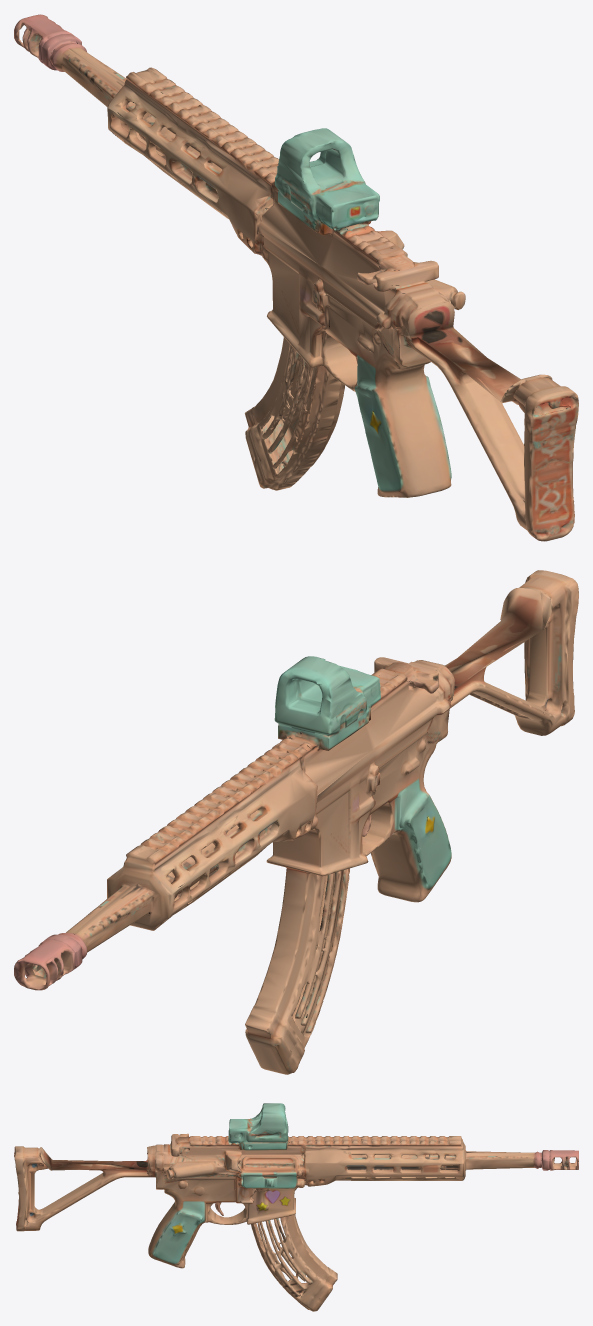
3 views of the same model, one above another, from view 1: azimuth 30°, elevation 25°; view 2: azimuth 150°, elevation 25°; view 3: azimuth 270°, elevation 25° (orthographic). The views are drawn at different scales.
Visible parts, largest first — view 1: repaired; view 2: repaired; view 3: repaired.
Part boxes in pixels (x1,y1,x2,y2): repaired: (14, 14, 578, 541); repaired: (14, 570, 578, 1074); repaired: (14, 1103, 578, 1311).
Bounding box in the file's own units: 0.101 × 0.3977 × 1.
Materials: 1 (1 with a texture image).
